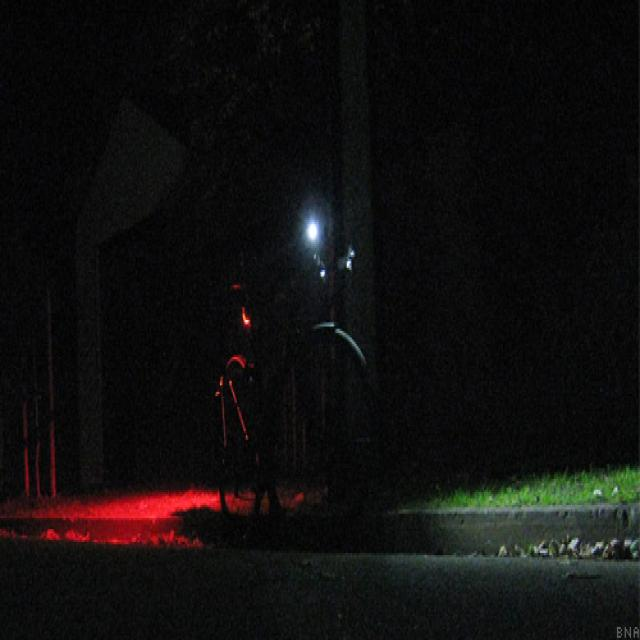Bicycle: (204, 217, 387, 569)
